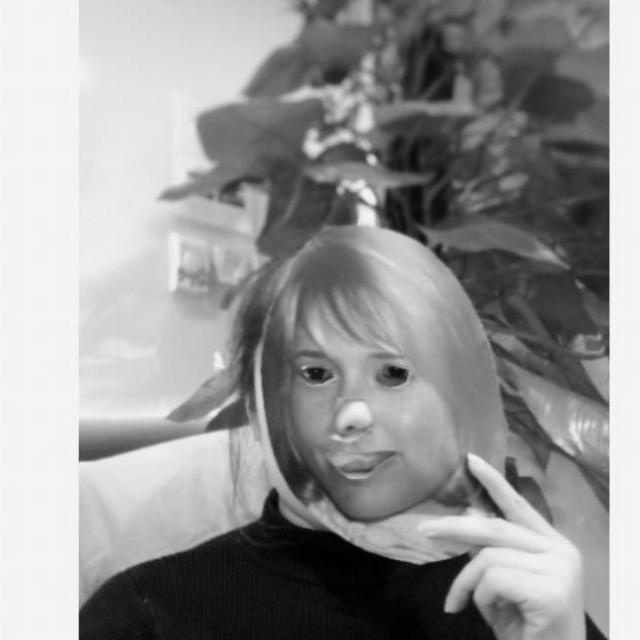fake: (255, 224, 518, 562)
